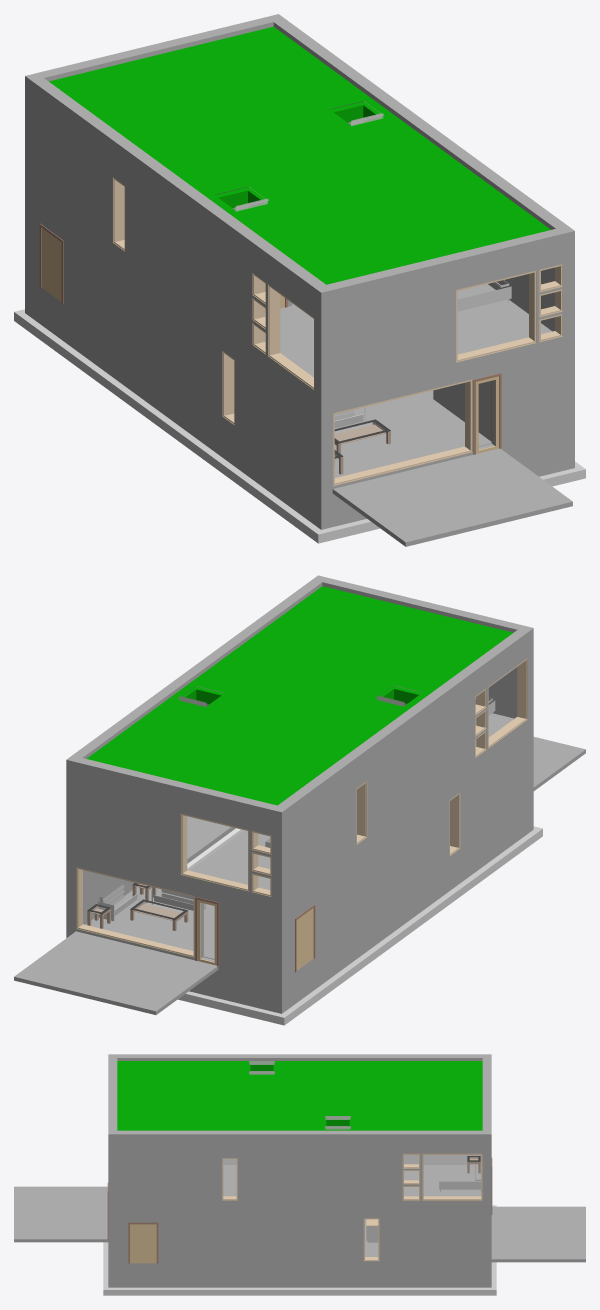
File: ifcFile-1585738829484.ifc.gltf
3 views of the same model, one above another, from view 1: azimuth 30°, elevation 25°; view 2: azimuth 150°, elevation 25°; view 3: azimuth 270°, elevation 25° (orthographic). The views are drawn at different scales.
Visible parts, largest first — view 1: 3ThA22djr8AQQ9eQMA5s7I, 2O2Fr$t4X7Zf8NOew3FNhv, 2O2Fr$t4X7Zf8NOew3FLPP, 2O2Fr$t4X7Zf8NOew3FLOH, 1CZILmCaHETO8tf3SgGEXu, 2O2Fr$t4X7Zf8NOew3FNr2, 2O2Fr$t4X7Zf8NOew3FKE5, 0jf0rYHfX3RAB3bSIRjmr1, 2OBrcmyk58NupXoVOHUtxr, 0jf0rYHfX3RAB3bSIRjmoa, 0jf0rYHfX3RAB3bSIRjmpw, 0kF45Qs8L9PAM9kmb1lT5t (+17 smaller); view 2: 3ThA22djr8AQQ9eQMA5s7I, 2O2Fr$t4X7Zf8NOew3FNhv, 2O2Fr$t4X7Zf8NOew3FLPP, 2O2Fr$t4X7Zf8NOew3FLQD, 1CZILmCaHETO8tf3SgGEWh, 2O2Fr$t4X7Zf8NOew3FNtn, 2O2Fr$t4X7Zf8NOew3FKE5, 0jf0rYHfX3RAB3bSIRjmr1, 0jf0rYHfX3RAB3bSIRjmmy, 0kF45Qs8L9PAM9kmb1lT5t, 0jf0rYHfX3RAB3bSIRjmpw, 2OBrcmyk58NupXoVOHUtgP (+17 smaller); view 3: 3ThA22djr8AQQ9eQMA5s7I, 2O2Fr$t4X7Zf8NOew3FNqI, 2O2Fr$t4X7Zf8NOew3FLR9, 2O2Fr$t4X7Zf8NOew3FK9N, 0jf0rYHfX3RAB3bSIRjmpw, 1CZILmCaHETO8tf3SgGEWh, 1CZILmCaHETO8tf3SgGEXu, 0kF45Qs8L9PAM9kmb1lT5d, 0jf0rYHfX3RAB3bSIRjmr1, 2OBrcmyk58NupXoVOHUtDX, 1hOSvn6df7F8_7GcBWlRGQ, 0jf0rYHfX3RAB3bSIRjmmy (+6 smaller).
Boxes of the visible parts, x1,y1,x2,y2 form: 3ThA22djr8AQQ9eQMA5s7I: (49,26,550,284); 2O2Fr$t4X7Zf8NOew3FNhv: (32,187,314,486); 2O2Fr$t4X7Zf8NOew3FLPP: (25,94,321,398); 2O2Fr$t4X7Zf8NOew3FLOH: (321,249,574,398); 1CZILmCaHETO8tf3SgGEXu: (332,448,572,546); 2O2Fr$t4X7Zf8NOew3FNr2: (314,340,562,491); 2O2Fr$t4X7Zf8NOew3FKE5: (32,281,314,524); 0jf0rYHfX3RAB3bSIRjmr1: (32,78,325,305); 2OBrcmyk58NupXoVOHUtxr: (334,390,491,477); 0jf0rYHfX3RAB3bSIRjmoa: (314,229,562,310); 0jf0rYHfX3RAB3bSIRjmpw: (273,19,574,251); 0kF45Qs8L9PAM9kmb1lT5t: (14,309,309,532); 3ThA22djr8AQQ9eQMA5s7I: (86,586,513,805); 2O2Fr$t4X7Zf8NOew3FNhv: (287,722,527,977); 2O2Fr$t4X7Zf8NOew3FLPP: (282,644,533,901); 2O2Fr$t4X7Zf8NOew3FLQD: (66,775,281,902); 1CZILmCaHETO8tf3SgGEWh: (14,931,218,1014); 2O2Fr$t4X7Zf8NOew3FNtn: (66,850,287,981); 2O2Fr$t4X7Zf8NOew3FKE5: (287,802,527,1009); 0jf0rYHfX3RAB3bSIRjmr1: (278,630,527,823); 0jf0rYHfX3RAB3bSIRjmmy: (66,755,287,827); 0kF45Qs8L9PAM9kmb1lT5t: (262,836,530,1025); 0jf0rYHfX3RAB3bSIRjmpw: (72,575,327,758); 2OBrcmyk58NupXoVOHUtgP: (85,887,214,959); 3ThA22djr8AQQ9eQMA5s7I: (117,1061,482,1130); 2O2Fr$t4X7Zf8NOew3FNqI: (108,1202,482,1263); 2O2Fr$t4X7Zf8NOew3FLR9: (108,1146,491,1202); 2O2Fr$t4X7Zf8NOew3FK9N: (108,1263,482,1287); 0jf0rYHfX3RAB3bSIRjmpw: (108,1130,482,1146); 1CZILmCaHETO8tf3SgGEWh: (491,1206,585,1262); 1CZILmCaHETO8tf3SgGEXu: (14,1186,108,1242); 0kF45Qs8L9PAM9kmb1lT5d: (103,1281,496,1295); 0jf0rYHfX3RAB3bSIRjmr1: (117,1054,482,1060); 2OBrcmyk58NupXoVOHUtDX: (404,1165,481,1196); 1hOSvn6df7F8_7GcBWlRGQ: (128,1222,158,1263); 0jf0rYHfX3RAB3bSIRjmmy: (482,1054,491,1146).
Size of what is drawn, in the model's own units: 9.28 by 8.18 by 26.57.
